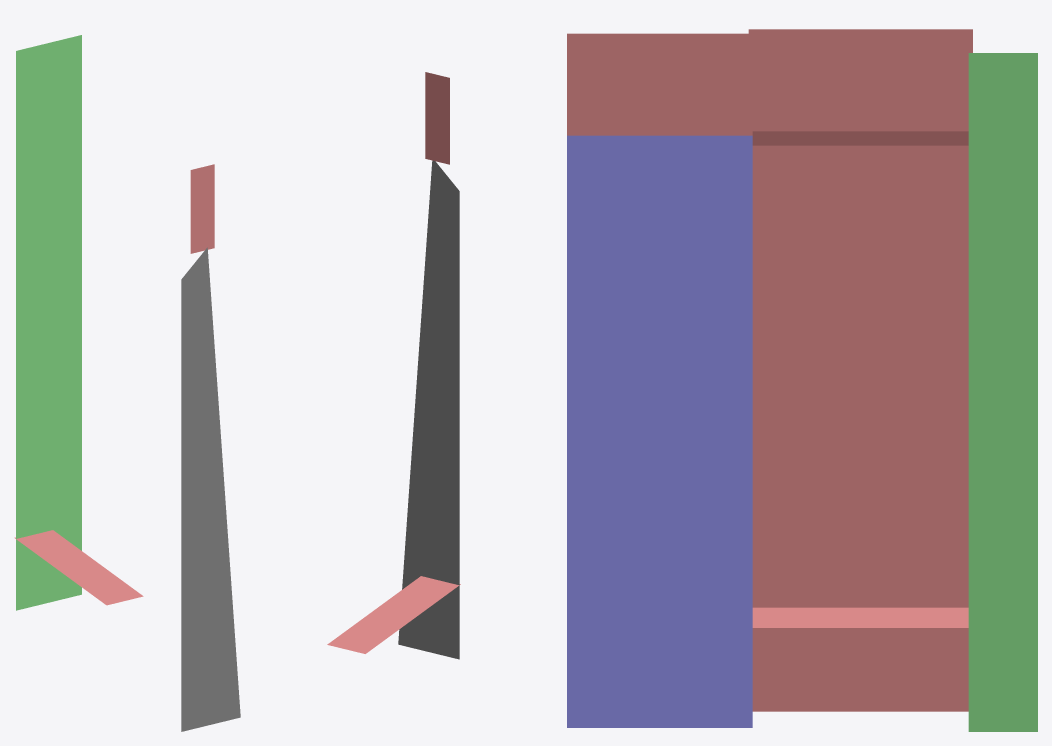
The model's file is SSQ_dungeon_S__SSQ_Room01_Wall05.gltf.
3 views of the same model, side by side, from view 1: azimuth 30°, elevation 25°; view 2: azimuth 150°, elevation 25°; view 3: azimuth 270°, elevation 25° (orthographic). The views are drawn at different scales.
Parts seen in each view (by area): view 1: SSQ_Room01_Wall05; view 2: SSQ_Room01_Wall05; view 3: SSQ_Room01_Wall05.
Part boxes in pixels (box(x1,y1,x2,y2)): SSQ_Room01_Wall05: box(14, 35, 240, 731); SSQ_Room01_Wall05: box(327, 72, 460, 659); SSQ_Room01_Wall05: box(567, 29, 1037, 731).
Bounding box in the file's own units: 0.4799 × 3.88 × 2.44.
